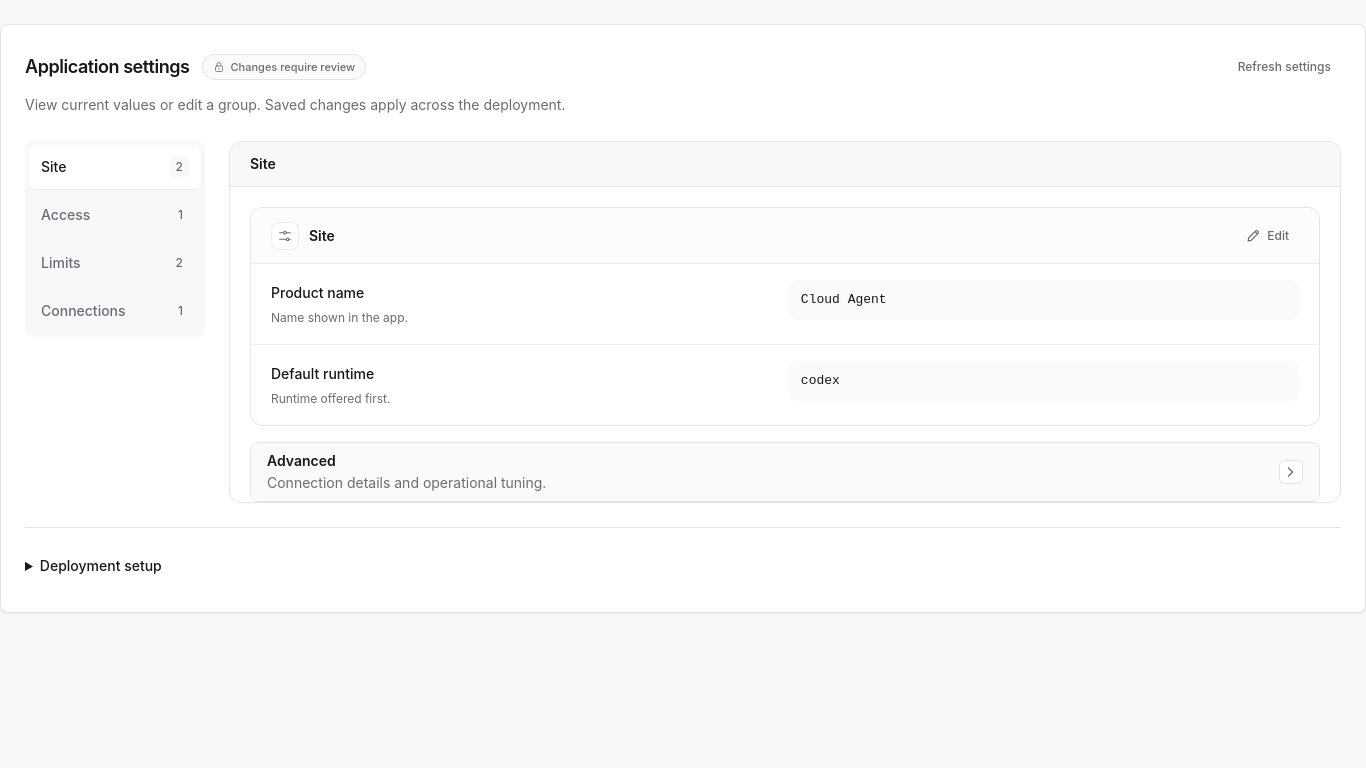
Test: application settings › starts read-only and discards an entire group without writing
The image size is (1366, 768).
Expected: the text named "Product name" reads "Cloud Agent", [801,292,887,307]
Click the button "Edit".
click(1267, 236)  # box [1235,218,1299,254]
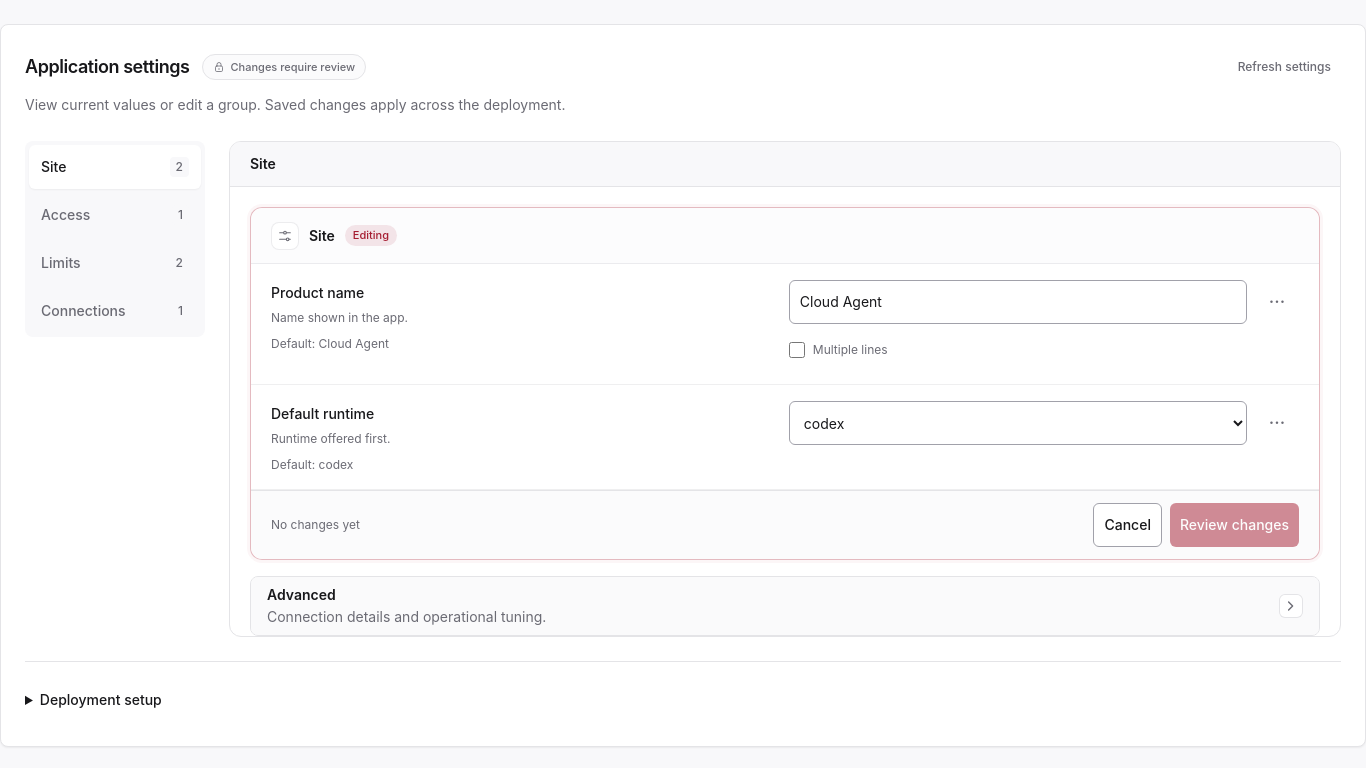
Replace the text in the field labelled "Product name" with "Accidental edit" at [1018, 302], box [789,280,1247,324]
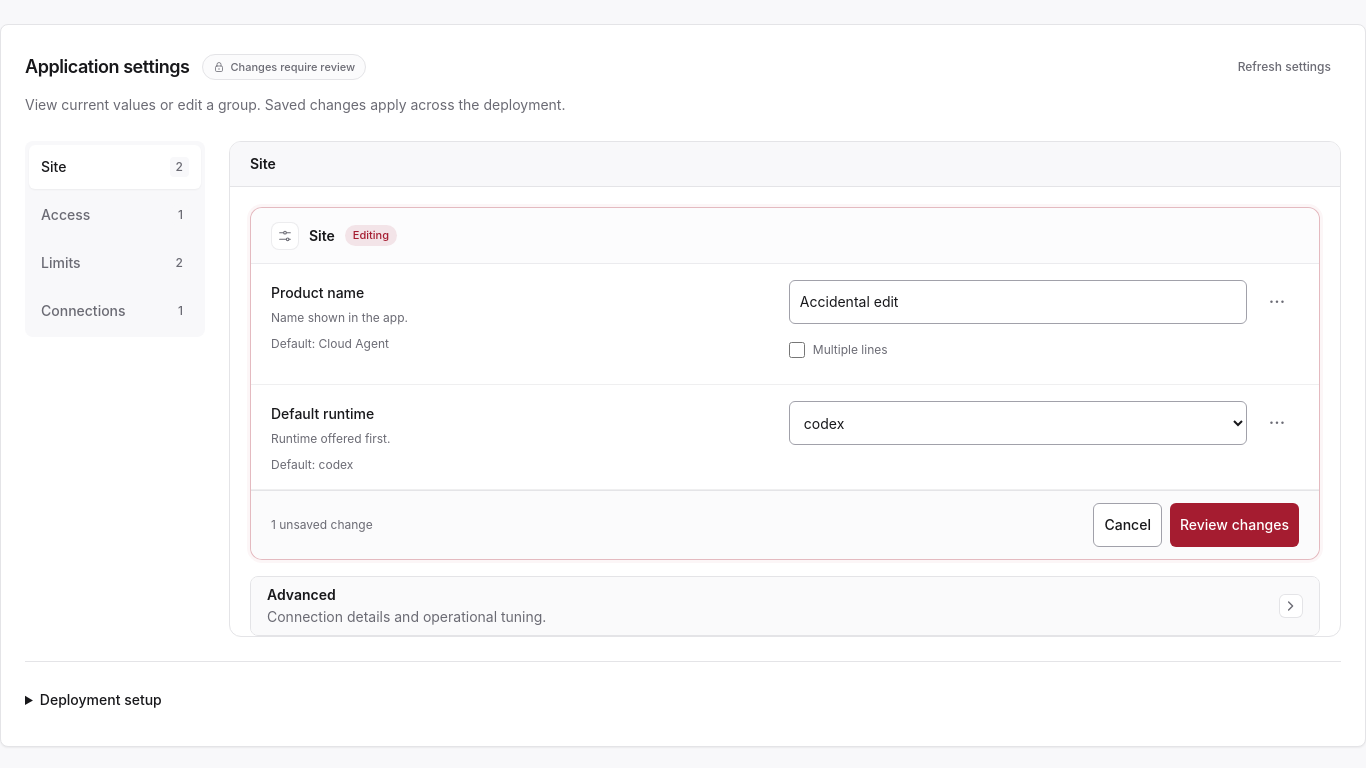
Select "claude-code" in the dropdown labelled "Default runtime" at [1018, 423], box [789,401,1247,445]
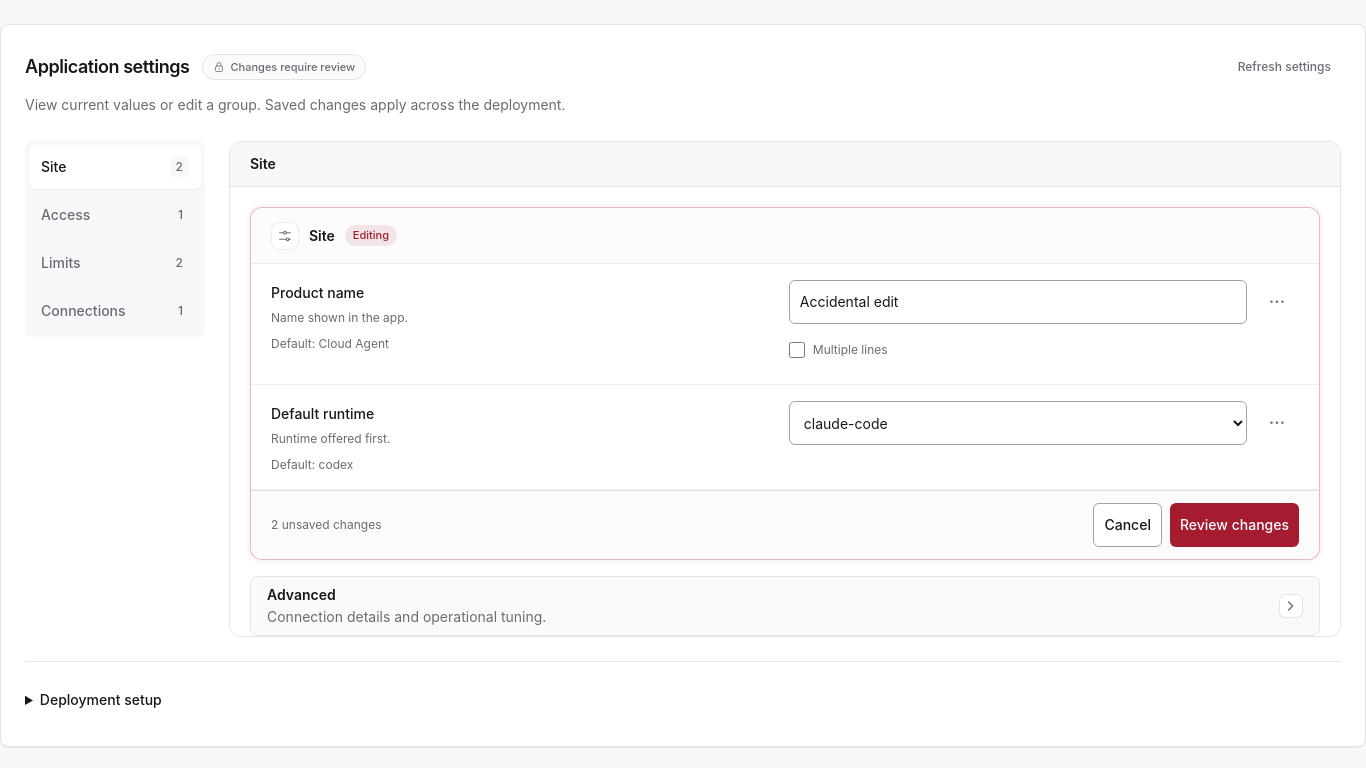
Click the button with aria-label "Cancel editing Site".
click(1128, 525)  # box [1094,503,1162,547]
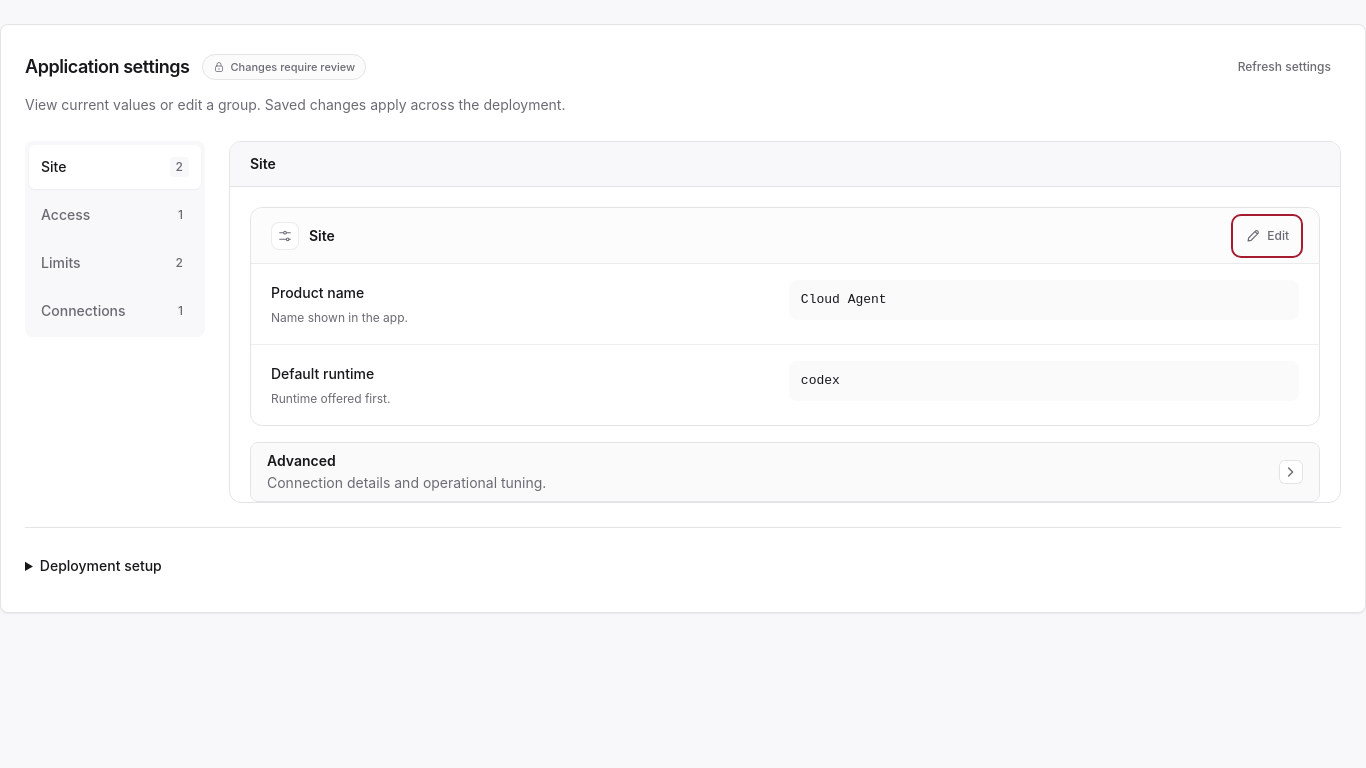
Expected: the text named "Product name" reads "Cloud Agent", [801,292,887,307]
Result: the field is gone
Click the button "Edit".
click(1267, 236)  # box [1235,218,1299,254]
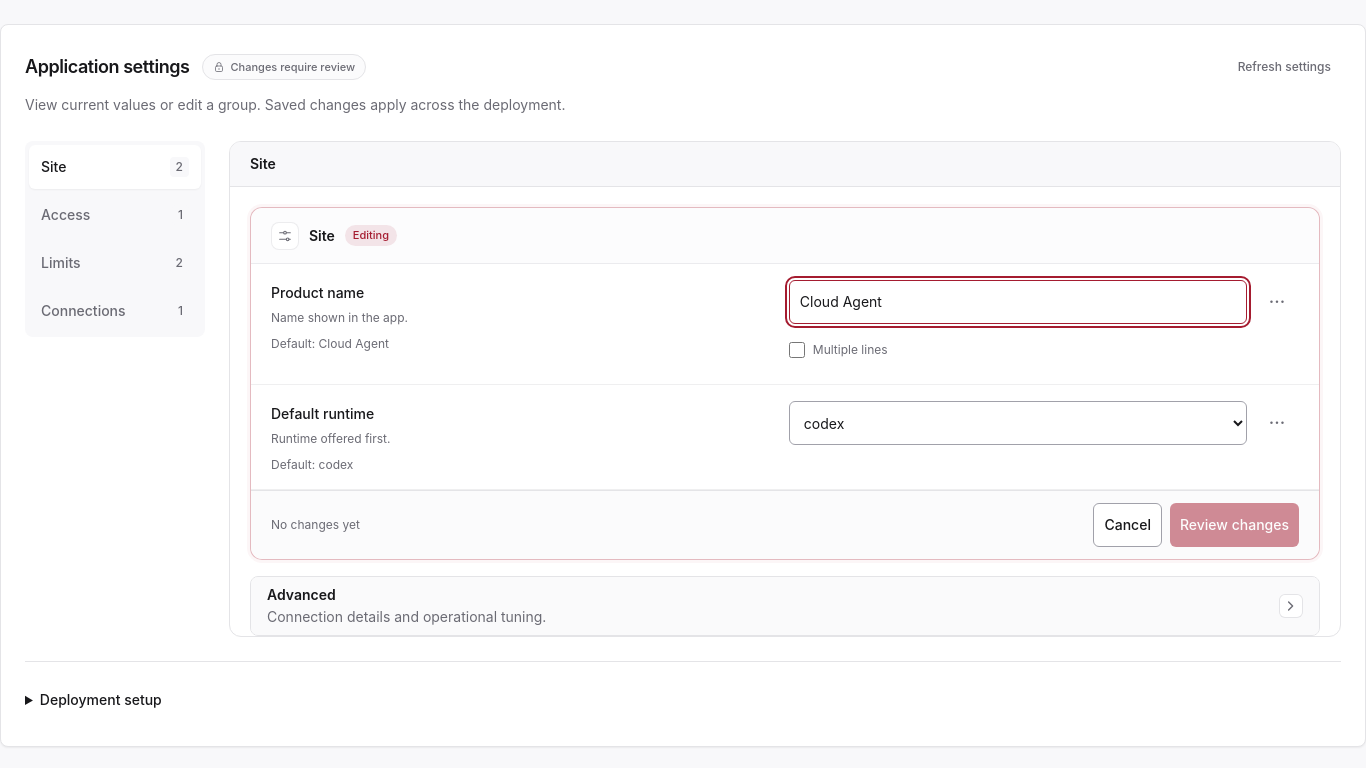
Result: the field labelled "Product name" holds "Cloud Agent" at [789,280,1247,324]
Result: the button "Review changes" is disabled at [1170,503,1299,547]
